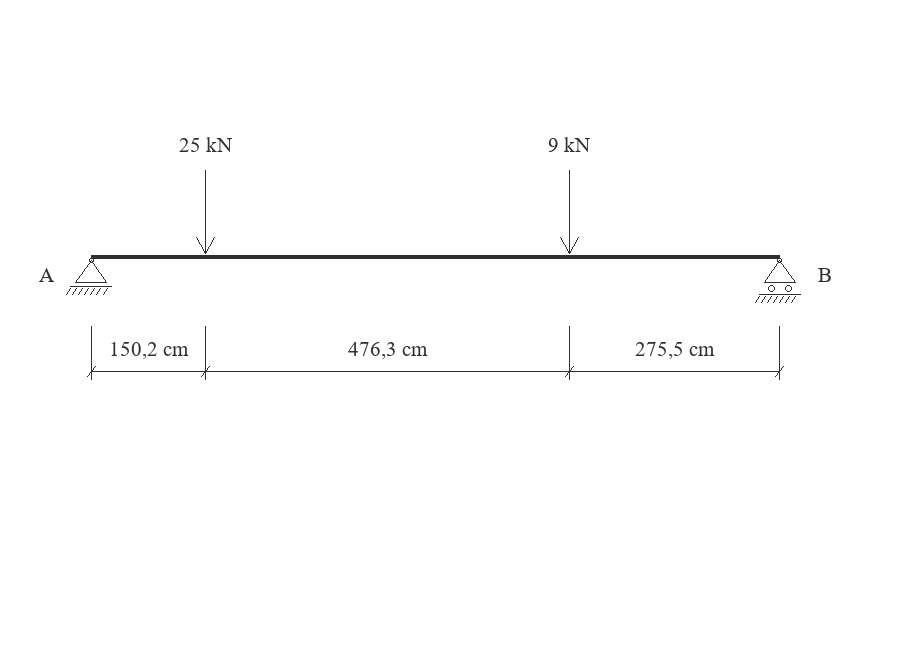pin_support: (66, 258, 112, 295)
point_load: (196, 170, 215, 254), (560, 170, 579, 254)
roller_support: (755, 258, 801, 303)
